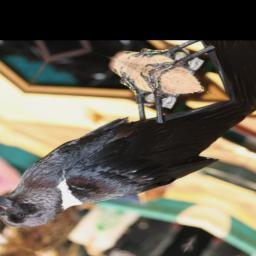Crow: (0, 48, 256, 256)
